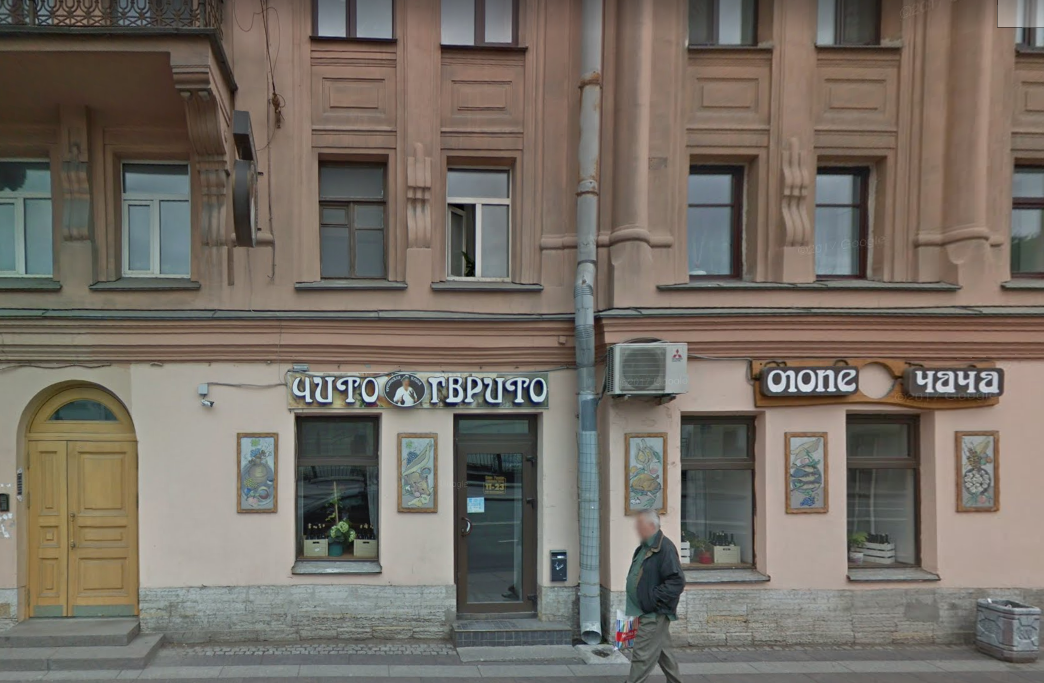cantilever: (210, 111, 284, 256)
door: (23, 428, 139, 621), (457, 416, 536, 615)
signboard: (751, 357, 1003, 409), (286, 365, 549, 411)
window: (298, 415, 377, 559), (680, 413, 753, 568), (849, 409, 918, 569), (118, 161, 194, 274), (445, 166, 511, 280), (322, 159, 384, 277), (689, 164, 745, 283), (1, 160, 53, 280), (820, 171, 868, 275)
